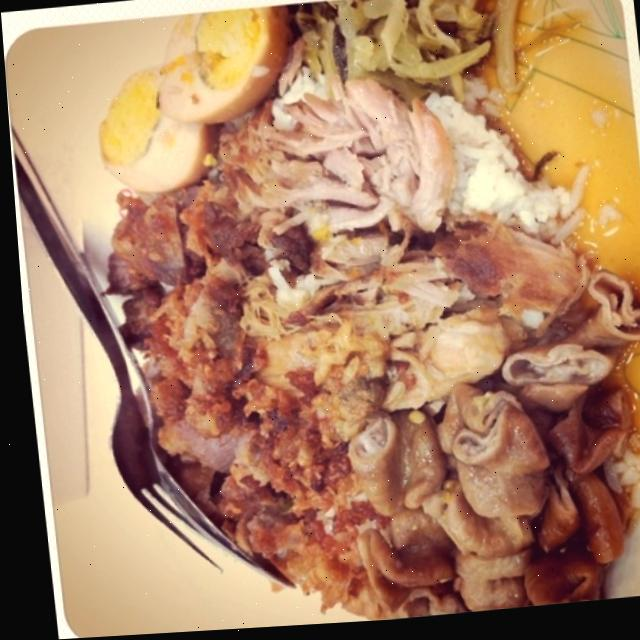猪肉菜式: (49, 0, 640, 629)
